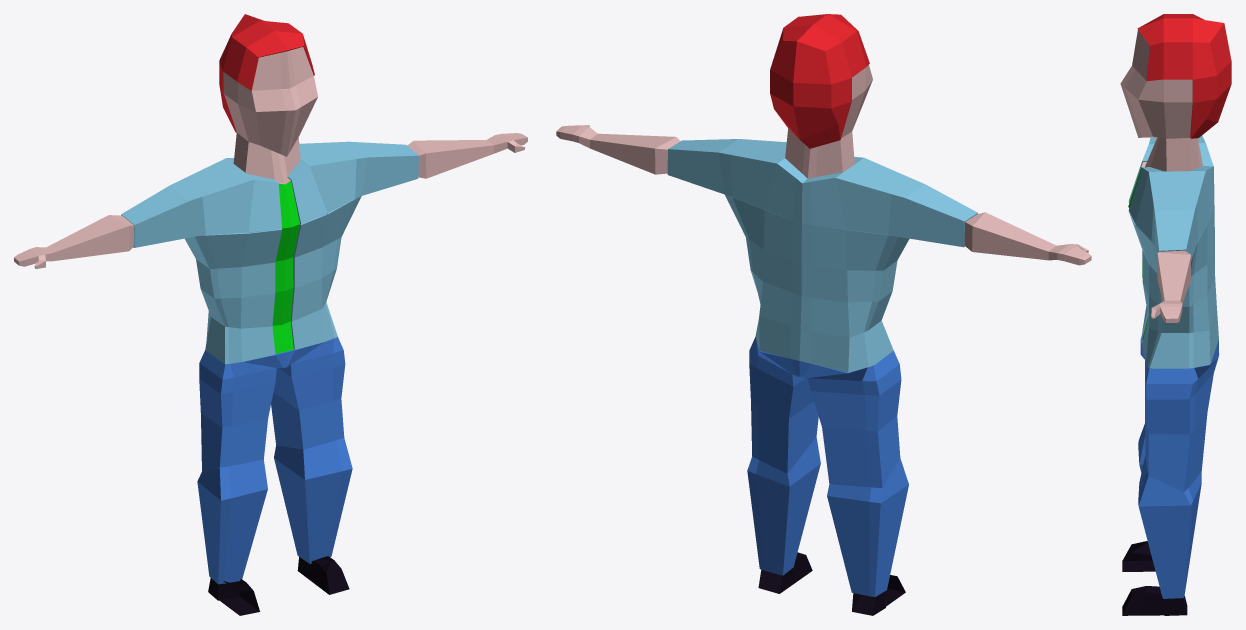
File: character.fbx
3 views of the same model, side by side, from view 1: azimuth 30°, elevation 25°; view 2: azimuth 150°, elevation 25°; view 3: azimuth 270°, elevation 25° (orthographic). The views are drawn at different scales.
Parts seen in each view (by area): view 1: jacket, pants, body, hair, Shirt, shoes; view 2: jacket, pants, hair, body, shoes; view 3: jacket, pants, body, hair, shoes.
Part boxes in pixels (x1,y1,x2,y2): jacket: (121,141,418,364); pants: (197,337,352,584); body: (14,47,527,268); hair: (219,14,314,132); Shirt: (272,180,299,353); shoes: (208,556,349,615); jacket: (667,139,977,372); pants: (747,337,908,596); hair: (770,14,869,148); body: (556,65,1091,265); shoes: (758,552,905,615); jacket: (1128,135,1218,368); pants: (1138,334,1219,598); body: (1120,30,1202,322); hair: (1137,14,1231,138); shoes: (1122,541,1187,615).
Bounding box in the file's own units: 1396 × 1462 × 258.
